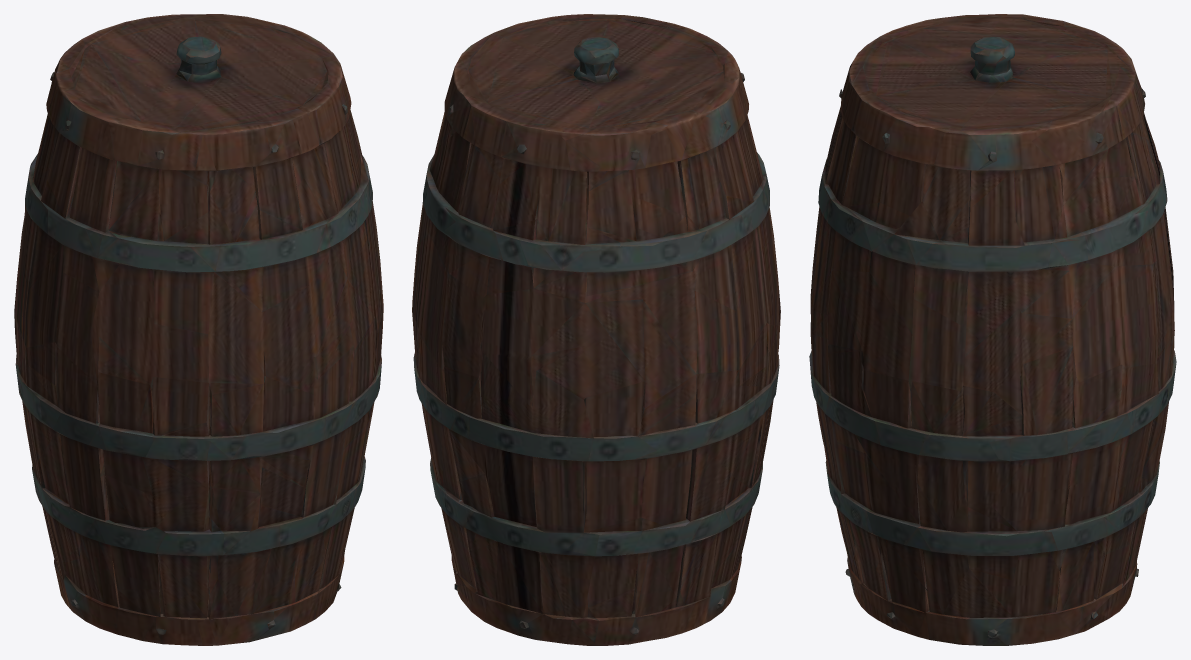
File: winebarrel.glb
The picture shows the model from 3 angles, left to right: view 1: azimuth 30°, elevation 25°; view 2: azimuth 150°, elevation 25°; view 3: azimuth 270°, elevation 25°; orthographic projection.
Bounding box in the file's own units: 1.16 × 1.9 × 1.16.
1 material, 1 textured.
